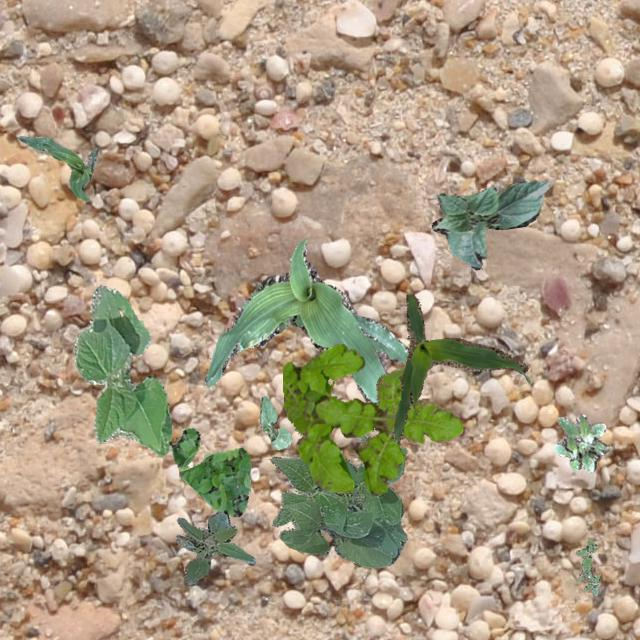crop: (204, 237, 408, 403), (392, 293, 528, 442), (268, 434, 406, 566), (72, 284, 170, 456), (431, 180, 548, 268), (17, 134, 98, 200), (260, 394, 290, 448)
weed: (282, 342, 464, 494), (168, 428, 250, 516), (176, 510, 254, 586), (554, 412, 610, 472), (574, 538, 600, 594)
